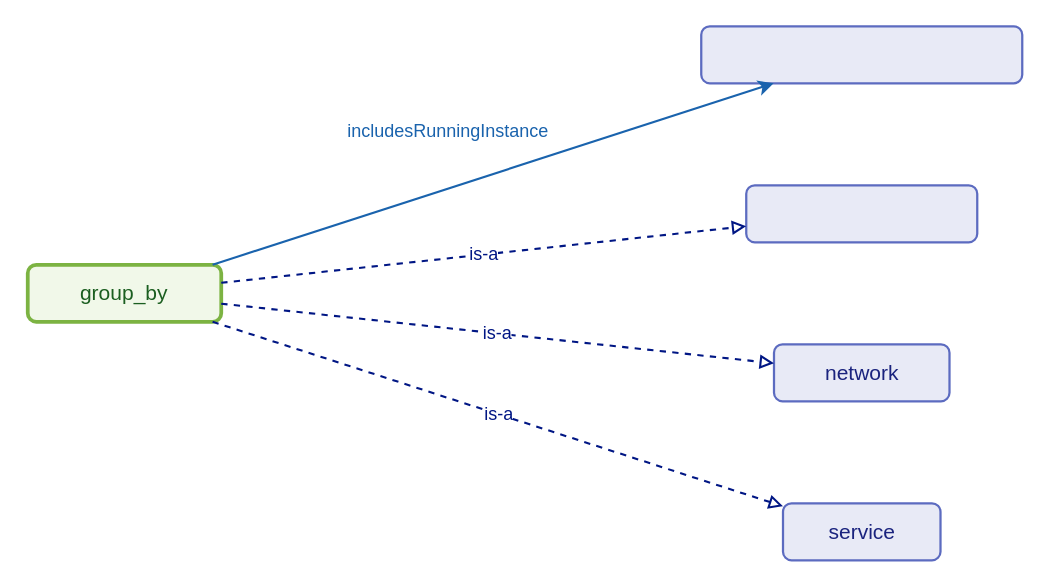
The diagram is 1049 pixels wide and 588 high, and some of its shapes have lost their labels. Each missing label, with the box of its shape:
deployment_unit: (699, 24, 1023, 84)
namespace: (744, 183, 978, 243)
